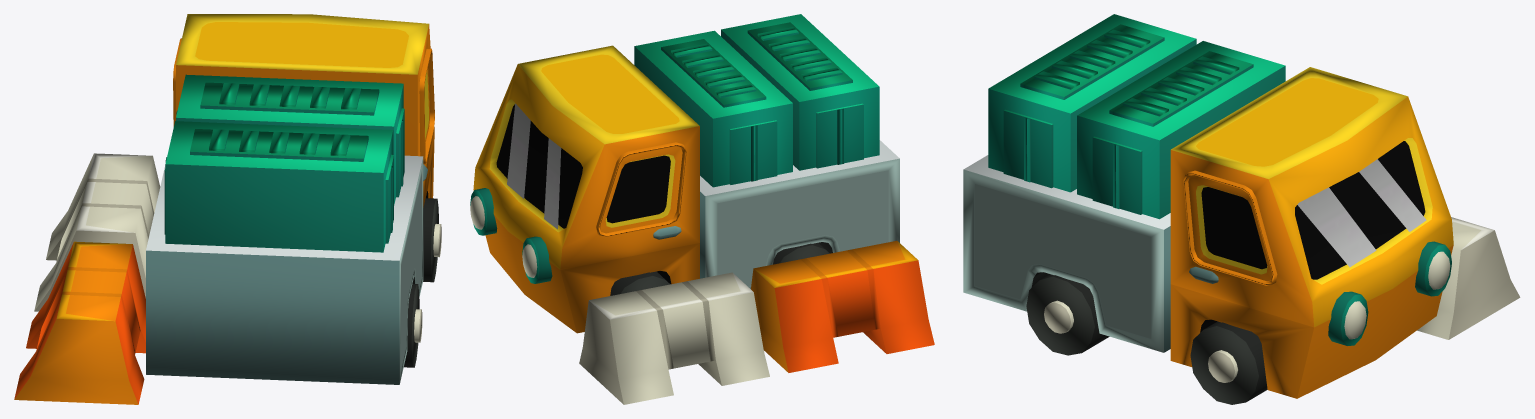
Rendered from CargoOdysseyStatue.fbx.
3 renders of one model, left to right at view 1: azimuth 30°, elevation 25°; view 2: azimuth 150°, elevation 25°; view 3: azimuth 270°, elevation 25°, orthographic. The views are drawn at different scales.
Visible parts, largest first — view 1: CargoOdysseyStatue; view 2: CargoOdysseyStatue; view 3: CargoOdysseyStatue.
Boxes of the visible parts, <box> form: CargoOdysseyStatue: <box>14,14,441,404</box>; CargoOdysseyStatue: <box>470,14,934,404</box>; CargoOdysseyStatue: <box>963,14,1520,404</box>.
Size of the model in its own units: 19.94 by 9.84 by 20.31.
1 material, 1 textured.
